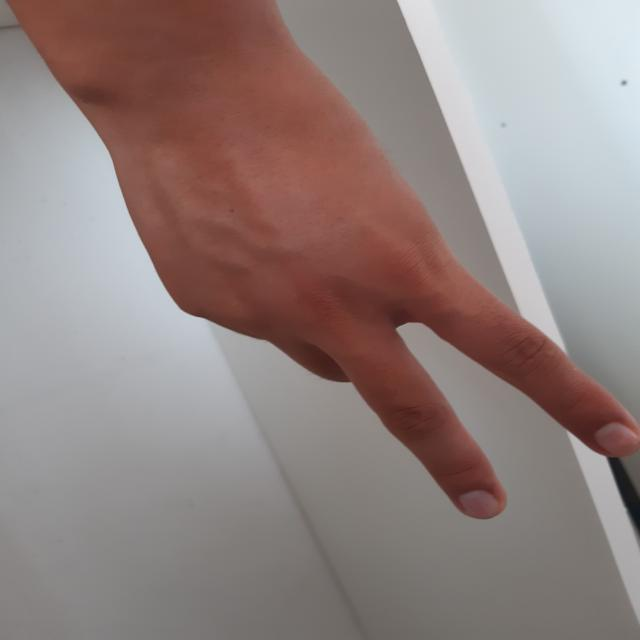EYE: (98, 108, 640, 524)
